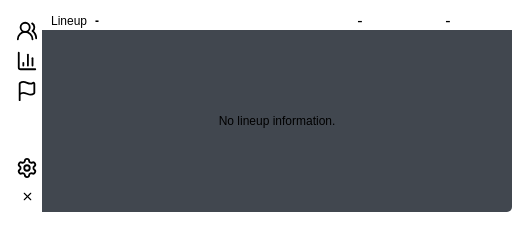
MatchDataOverlays › keeps an empty events timeline without an empty-state message
The width and height of the screenshot is (529, 228).
Click the tab named "Events" at (27, 91), box [16,80,38,102]
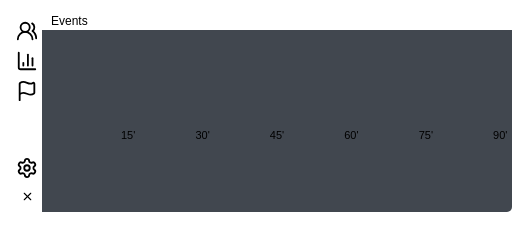
Expected: the element named "Match events timeline" is shown, [121,129,505,141]
